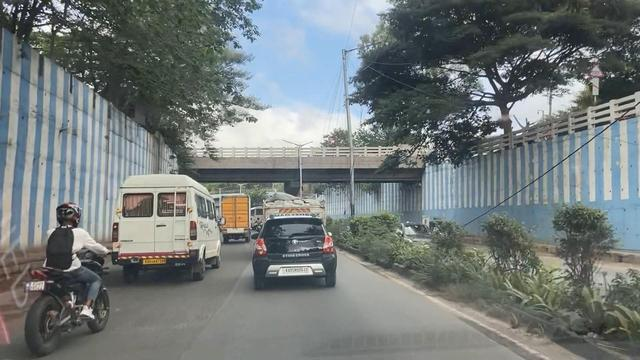HMV: (112, 171, 219, 279), (219, 196, 250, 242)
LMV: (22, 200, 112, 354), (252, 214, 336, 288)
